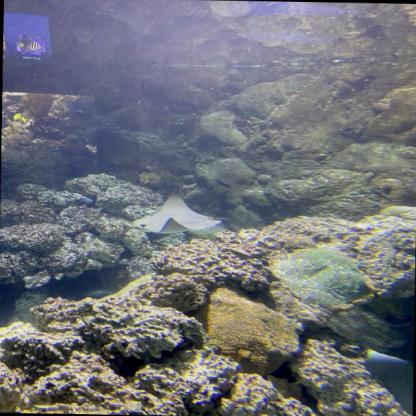stingray: (131, 188, 223, 233)
